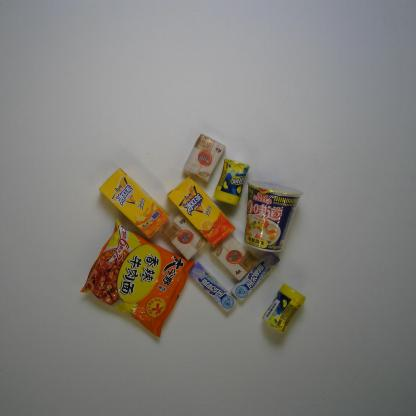Candy: (233, 249, 284, 303), (188, 261, 234, 316)
Drink: (164, 174, 237, 249), (98, 170, 166, 242)
Gum: (262, 282, 304, 330), (212, 154, 249, 207)
Instant Noodles: (74, 218, 194, 340), (240, 176, 300, 255)
Tissue: (160, 210, 206, 260), (181, 135, 228, 182), (214, 239, 257, 278)
